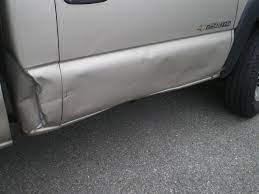doorouter-dent: (15, 68, 74, 136), (142, 52, 221, 83), (106, 90, 142, 110)
